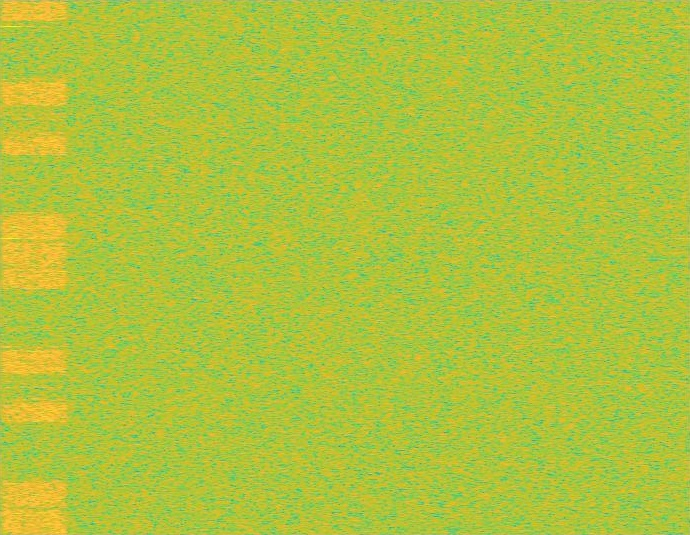LTE: (0, 0, 69, 534)
Radar: (3, 0, 17, 534)
